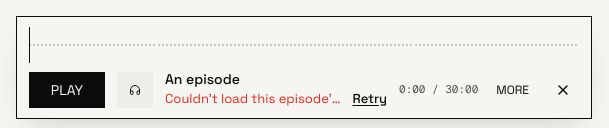
Test: load errors › says so under the title, and Retry loads the episode again
The width and height of the screenshot is (609, 128).
Expected: the text "Couldn't load this episode's audio." is shown, [165,88,344,108]
Click the button "Retry".
click(370, 98)  # box [352,88,387,108]
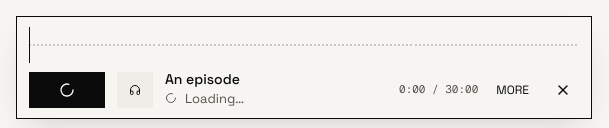
Expected: the text "Couldn't load" is gone
